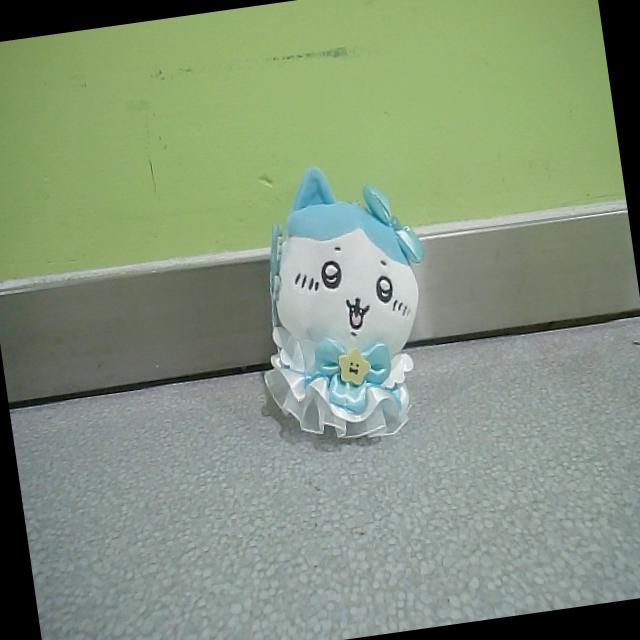xiaoba: (237, 158, 448, 462)
